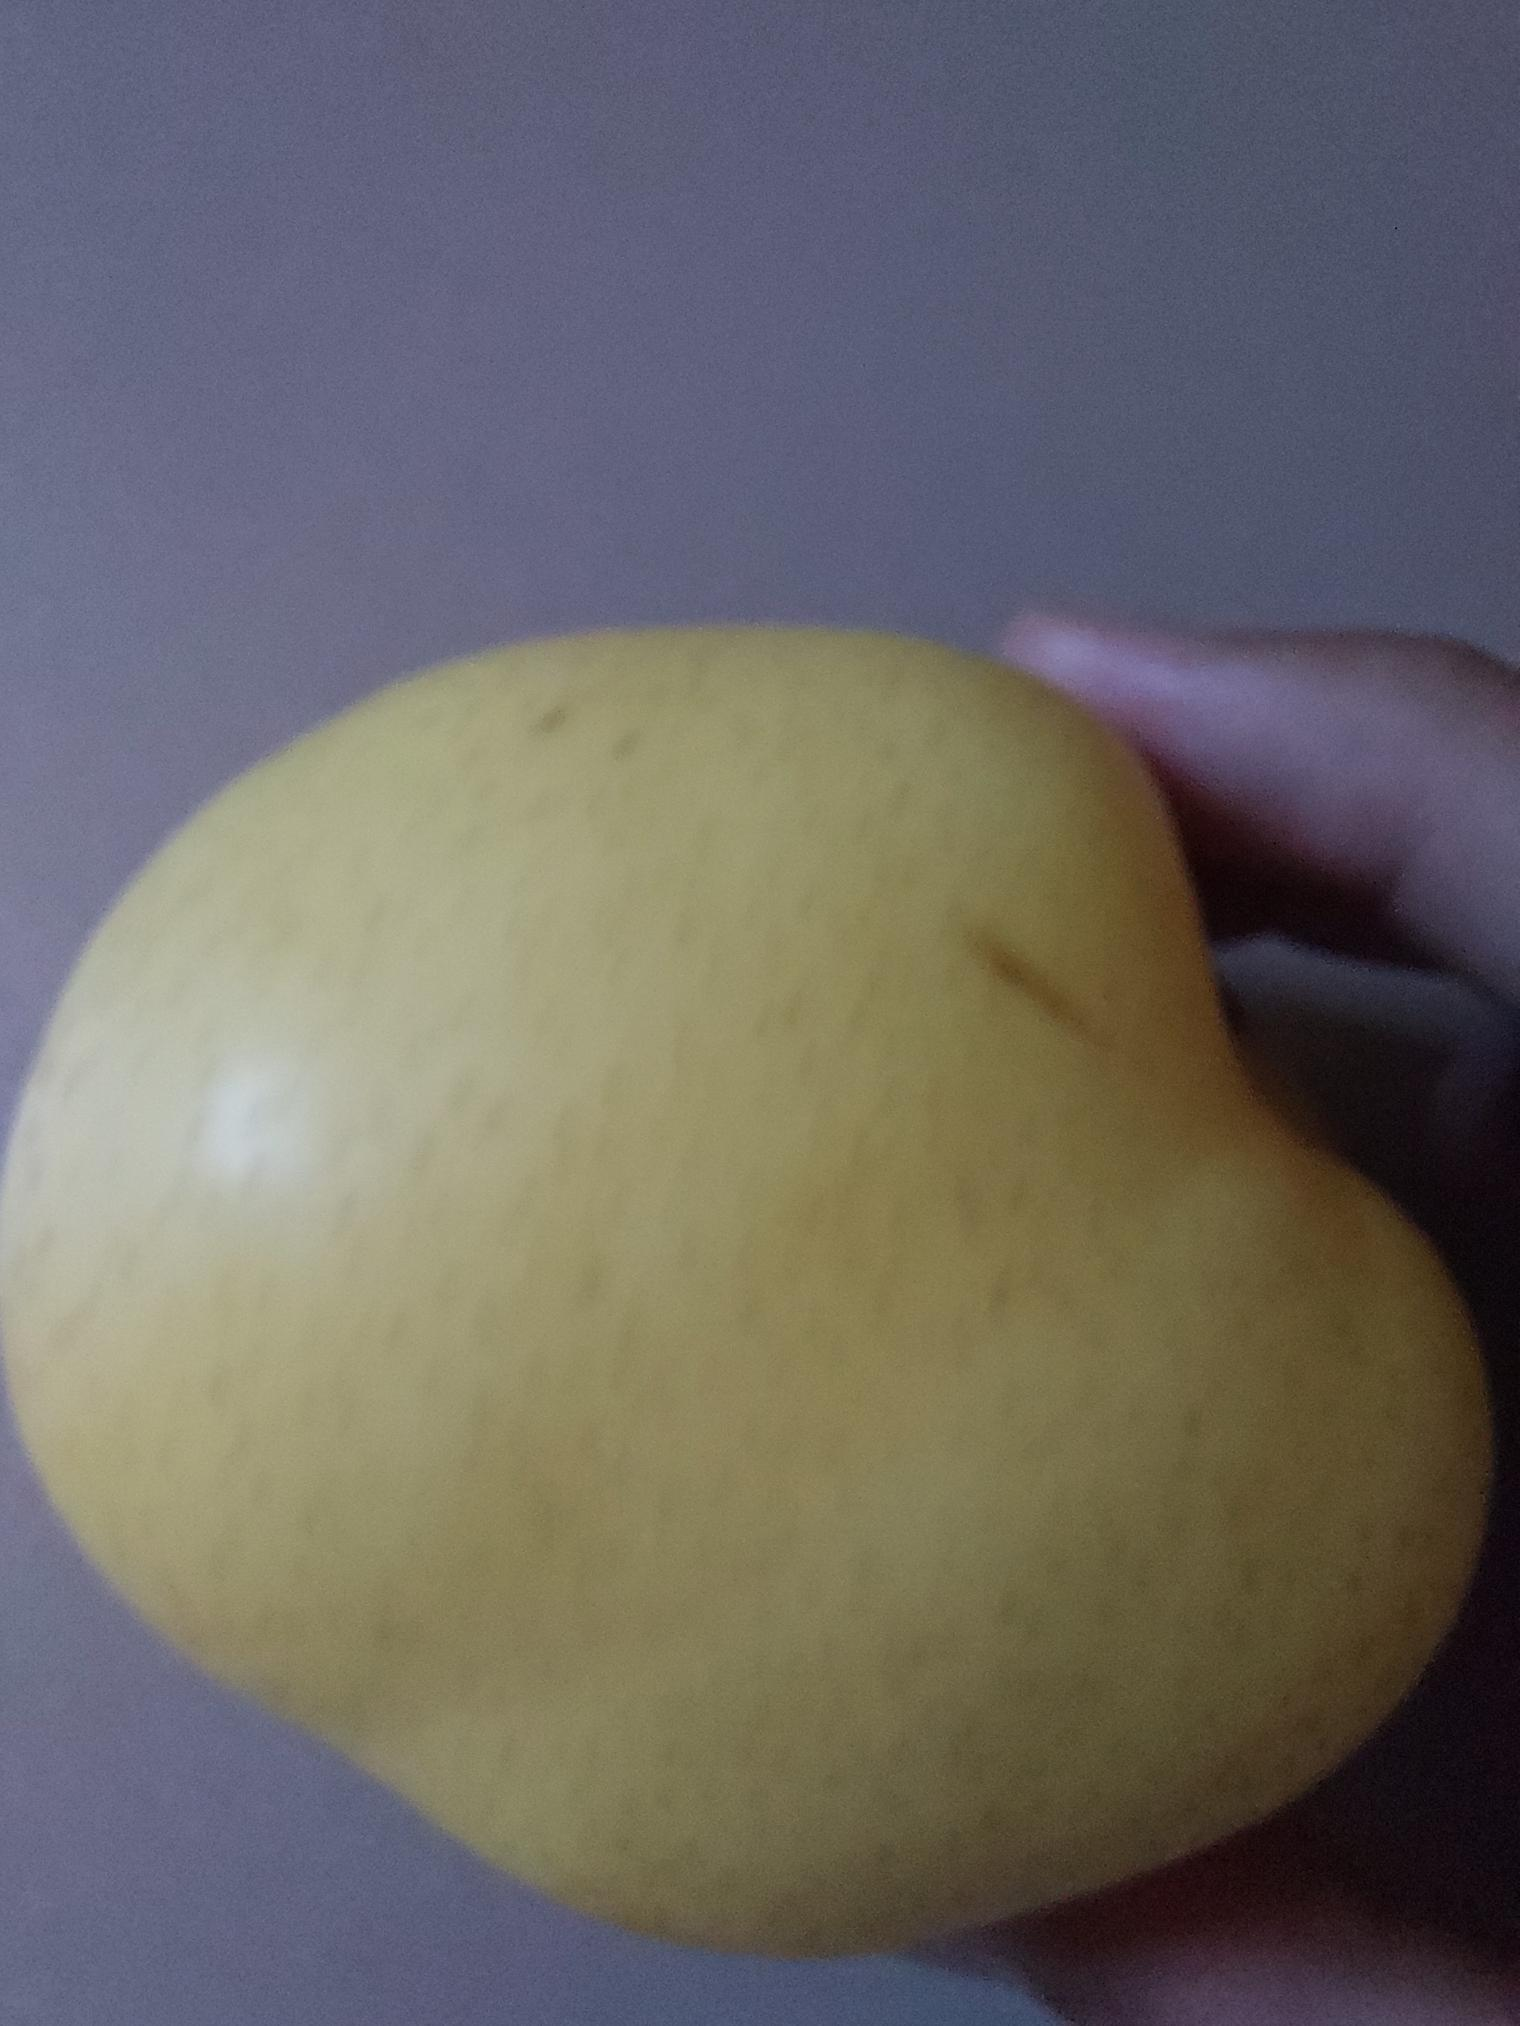Good Pear: (0, 615, 1488, 1981)
